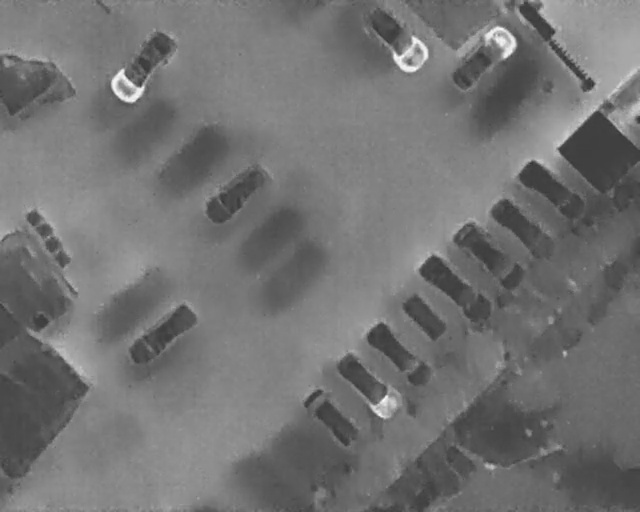Car: (412, 249, 499, 328), (104, 23, 184, 108), (449, 216, 530, 294), (328, 346, 407, 425), (361, 317, 440, 394), (196, 155, 277, 230), (358, 0, 434, 78), (122, 297, 203, 370), (443, 21, 520, 97), (514, 155, 592, 227), (483, 193, 560, 265), (296, 382, 369, 454)
